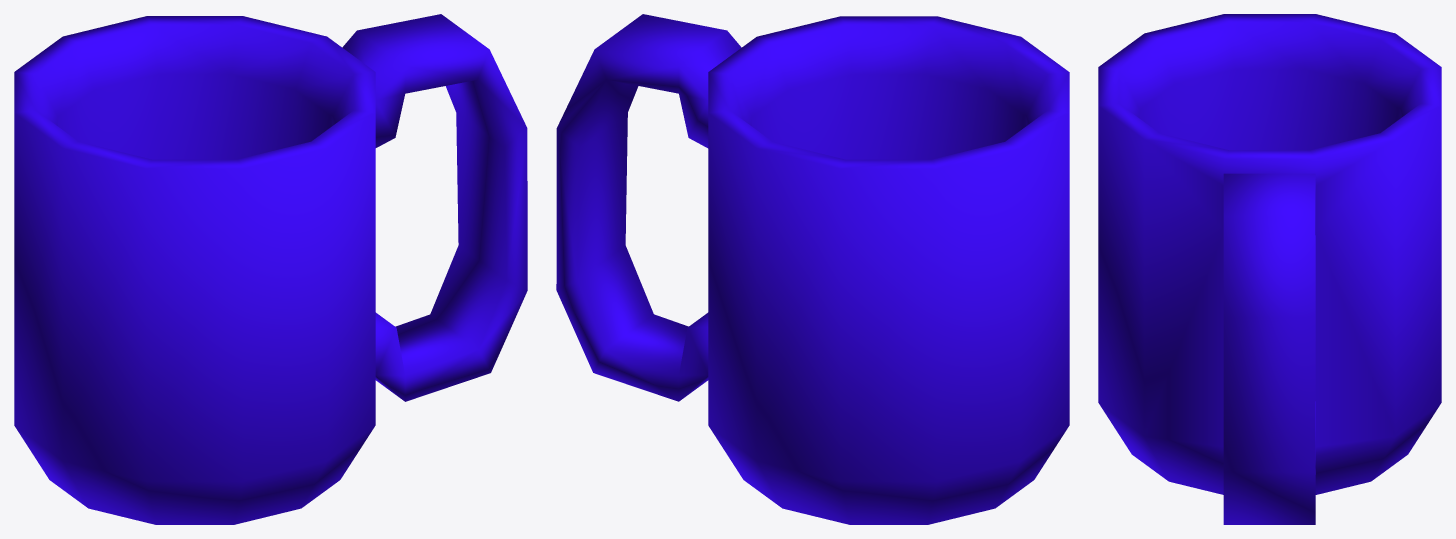
The model's file is office_pack_mug_1_meshCollider.fbx.
3 views of the same model, side by side, from view 1: azimuth 30°, elevation 25°; view 2: azimuth 150°, elevation 25°; view 3: azimuth 270°, elevation 25° (orthographic). The views are drawn at different scales.
Visible parts, largest first — view 1: office_pack_mug_1_meshCollider; view 2: office_pack_mug_1_meshCollider; view 3: office_pack_mug_1_meshCollider.
Boxes of the visible parts, box(x1,y1,x2,y2) form: office_pack_mug_1_meshCollider: box(14, 14, 527, 524); office_pack_mug_1_meshCollider: box(556, 14, 1069, 524); office_pack_mug_1_meshCollider: box(1098, 14, 1441, 524).
Size of the model in its own units: 12.16 by 9.28 by 8.19.
